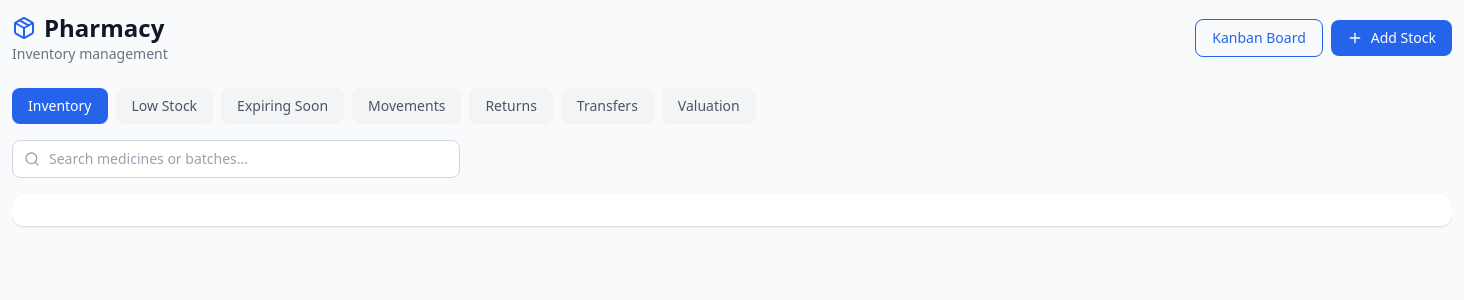
Scenario: PharmacyPage (inventory dashboard — full surface) › Movements tab refetches with /pharmacy/movements?limit=100 and renders rows when populated
This screenshot has width=1464, height=300.
Click the button "Movements": (407, 106) x1=352 y1=88 x2=461 y2=124
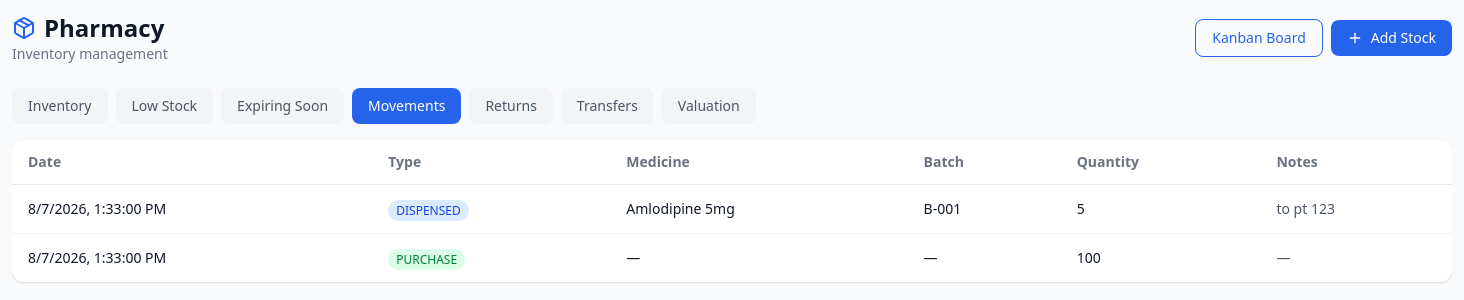
Result: the text "DISPENSED" is shown at x1=388 y1=200 x2=469 y2=221
Result: the text "PURCHASE" is shown at x1=388 y1=249 x2=465 y2=270
